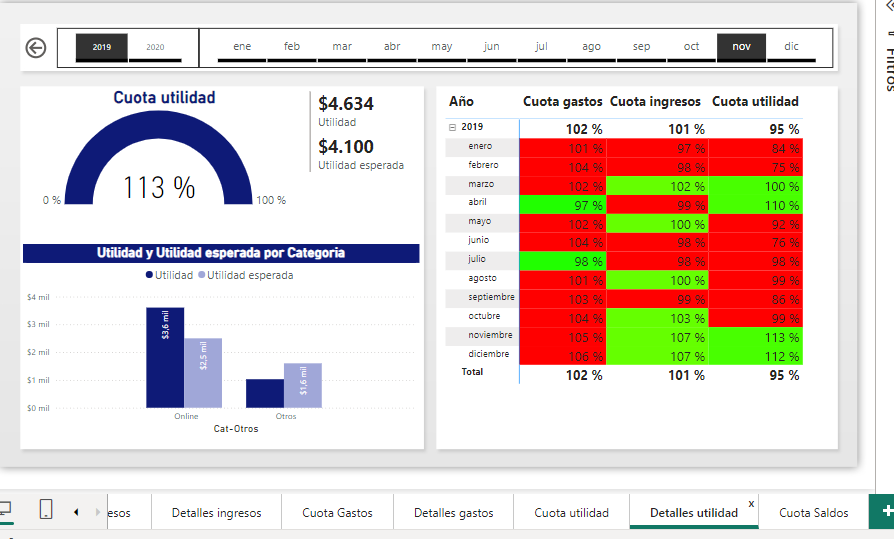

The page's visual inventory and layout, read from the dashboard file:
{"tool":"powerbi","page":{"name":"Detalles utilidad","canvas":[1280,720],"ordinal":7},"visuals":[{"type":"slicer","fields":{"Values":["Calendarios 20192020.Fecha.Variación.Jerarquía de fechas.Año"]},"box":[110.6,59.5,202.7,56.7],"z":0},{"type":"slicer","fields":{"Values":["Calendarios 20192020.Primeros caracteres"]},"box":[313.2,59.5,907.1,56.7],"z":1000},{"type":"gauge","fields":{"Y":["Expectativas.Cuota utilidad"]},"box":[62.2,146.1,404.8,176.4],"z":2000},{"type":"multiRowCard","fields":{"Values":["Finanzas.Utilidad","Expectativas.Utilidad esperada"]},"box":[466.3,146,161.6,155.9],"z":3000},{"type":"actionButton","box":[59.5,68,41.1,39.7],"z":4000},{"type":"clusteredColumnChart","title":"Utilidad y Utilidad esperada por Categoria","fields":{"Y":["Finanzas.Utilidad","Expectativas.Utilidad esperada"],"Category":["Categoria.Cat-Otros"]},"box":[61.8,369,566.7,277.2],"z":5000},{"type":"pivotTable","fields":{"Rows":["Calendarios 20192020.Fecha.Variación.Jerarquía de fechas.Año","Calendarios 20192020.Fecha.Variación.Jerarquía de fechas.Mes"],"Values":["Cuota %.Cuota gastos","Cuota %.Cuota ingresos","Expectativas.Cuota utilidad"]},"box":[660.3,146.5,559.7,499.6],"z":6000}]}

Visuals, with their boxes on the page's 1280x720 design canvas (x1, y1, x2, y2). These are canvas units, not pixel positions in the 894x539 screenshot, which may show the page scaled, cropped or inside an application window:
slicer - Calendarios 20192020.Fecha.Variación.Jerarquía de fechas.Año: x1=111, y1=60, x2=313, y2=116
slicer - Calendarios 20192020.Primeros caracteres: x1=313, y1=60, x2=1220, y2=116
gauge - Expectativas.Cuota utilidad: x1=62, y1=146, x2=467, y2=322
multiRowCard - Finanzas.Utilidad x Expectativas.Utilidad esperada: x1=466, y1=146, x2=628, y2=302
actionButton: x1=60, y1=68, x2=101, y2=108
"Utilidad y Utilidad esperada por Categoria" clusteredColumnChart: x1=62, y1=369, x2=628, y2=646
pivotTable - Calendarios 20192020.Fecha.Variación.Jerarquía de fechas.Año x Calendarios 20192020.Fecha.Variación.Jerarquía de fechas.Mes: x1=660, y1=146, x2=1220, y2=646
